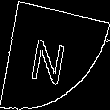N_N: (33, 25, 77, 85)
